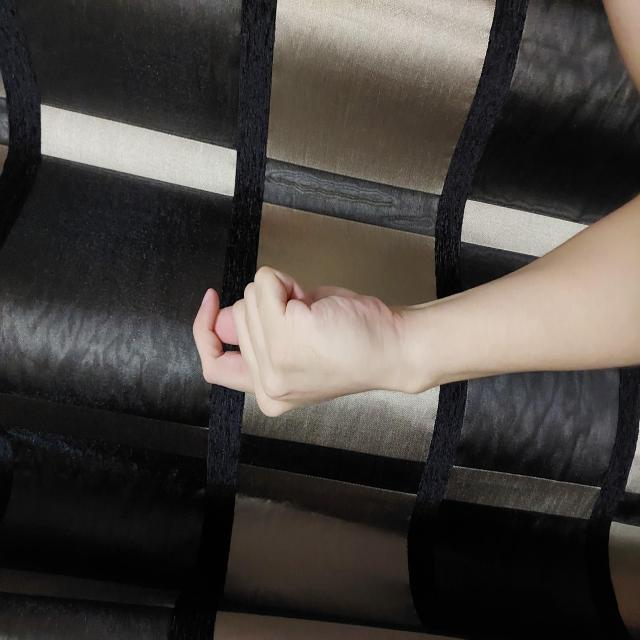T: (222, 192, 376, 401)
